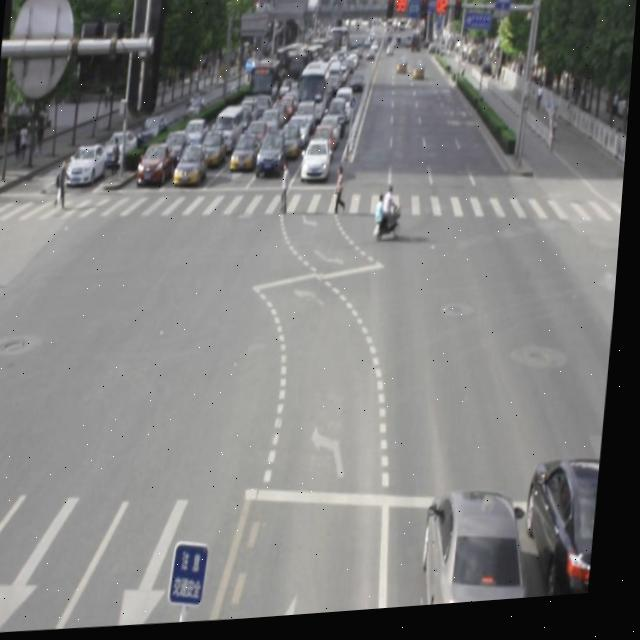car: (427, 492, 543, 613), (525, 465, 607, 607)
